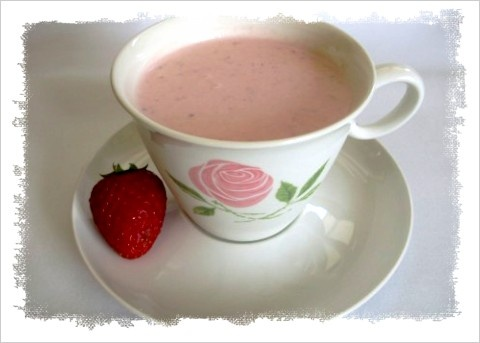background: (101, 19, 265, 75), (60, 53, 125, 138)
